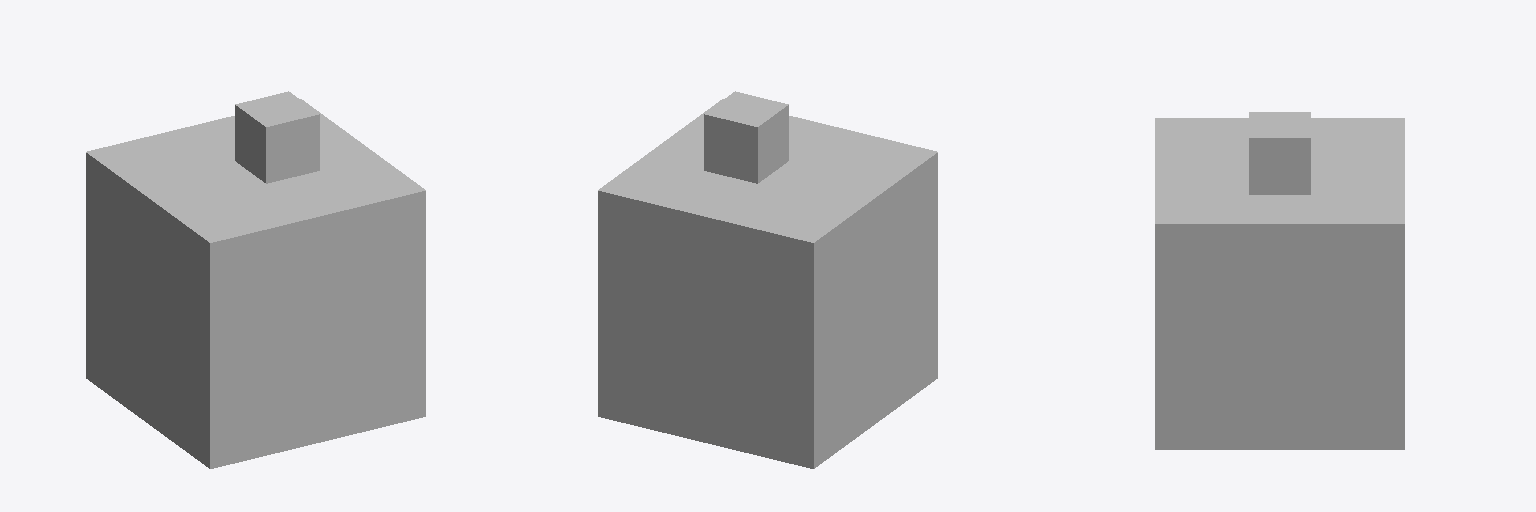
Rendered from perso1.obj.
3 views of the same model, side by side, from view 1: azimuth 30°, elevation 25°; view 2: azimuth 150°, elevation 25°; view 3: azimuth 270°, elevation 25° (orthographic).
Parts seen in each view (by area): view 1: pCube3; view 2: pCube3; view 3: pCube3.
Boxes of the visible parts, x1,y1,x2,y2 form: pCube3: [86, 91, 425, 468]; pCube3: [598, 91, 937, 468]; pCube3: [1155, 112, 1404, 449].
Size of the model in its own units: 2 by 2.5 by 2.